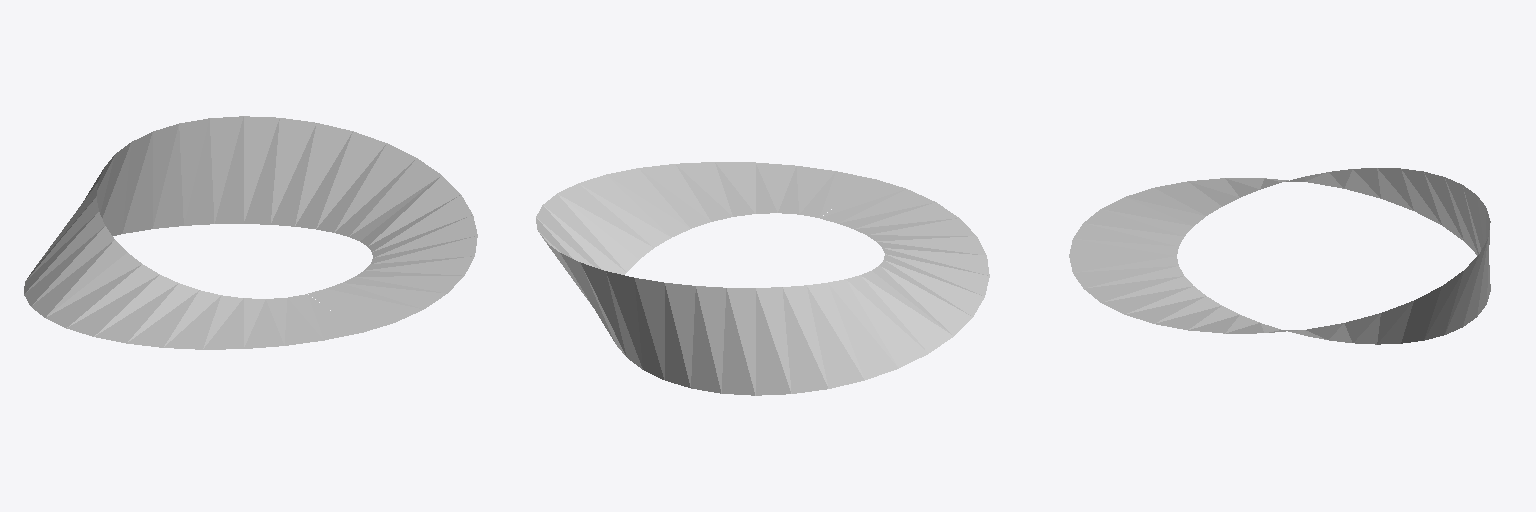
File: mobius-strip.obj
3 views of the same model, side by side, from view 1: azimuth 30°, elevation 25°; view 2: azimuth 150°, elevation 25°; view 3: azimuth 270°, elevation 25° (orthographic).
Parts seen in each view (by area): view 1: Plane; view 2: Plane; view 3: Plane.
Boxes of the visible parts, <box> form: Plane: <box>24,116,477,349</box>; Plane: <box>536,162,989,395</box>; Plane: <box>1069,168,1490,344</box>.
Size of the model in its own units: 3.12 by 0.7346 by 2.87.